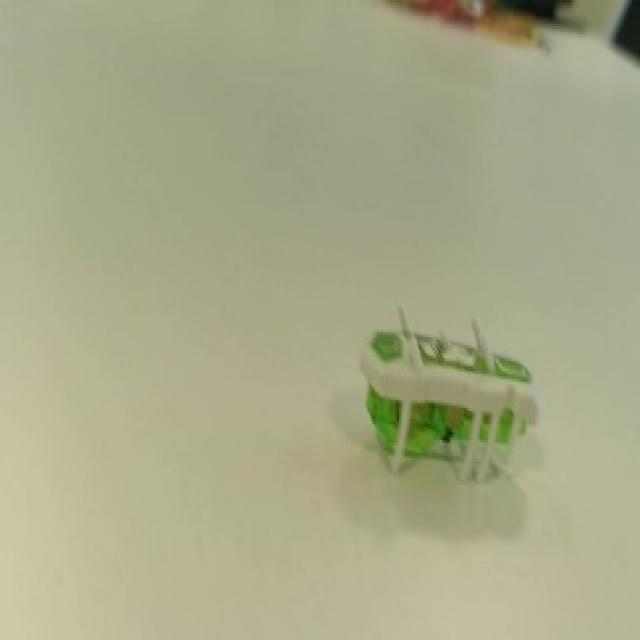4_NanoBug_Blanco: (332, 291, 552, 541)
